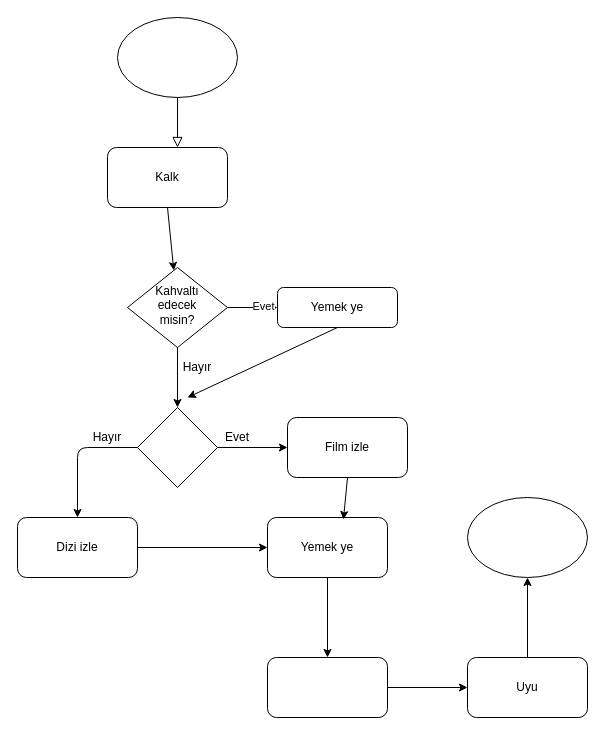
Some shapes in this 605 by 735 pixel diagram are drawn without their labels. The shapes that lost their labels are listed below. From the top down, each one's centre as x and y in pixels, then its label:
At (x=177, y=57): "Başla".
At (x=177, y=447): "Film seyredecek misin?".
At (x=527, y=537): "Son".
At (x=327, y=687): "Kitap oku".
